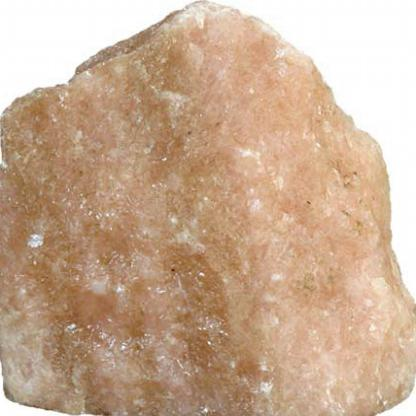Metamorphic_Marble: (1, 10, 416, 415)
